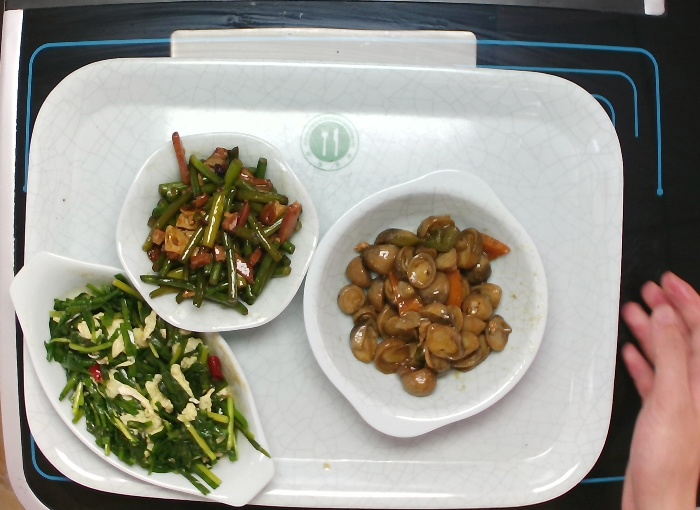JYsf-Shuang_Er_Wan: (303, 165, 550, 438)
JYsf-Yu_Pan: (7, 246, 286, 510)
WCQzf-Hua_Duo_Wan: (115, 127, 316, 335)
